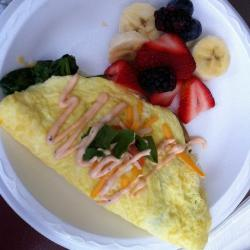omelette: (5, 82, 209, 244)
salad: (2, 60, 76, 91)
